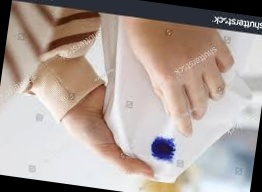ink: (149, 134, 178, 163)
